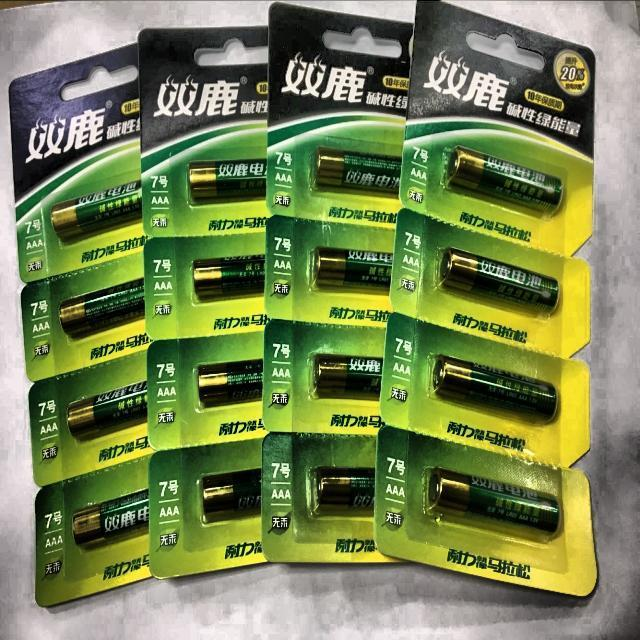battery: (429, 468, 560, 536), (432, 355, 558, 420), (441, 248, 559, 312), (449, 147, 562, 211), (51, 182, 141, 237), (59, 278, 145, 333), (66, 380, 148, 435), (72, 488, 149, 544), (316, 147, 401, 191), (315, 247, 392, 287), (194, 255, 265, 297), (189, 161, 266, 198), (198, 361, 262, 403), (204, 470, 261, 515), (316, 355, 382, 393), (319, 468, 375, 506)
